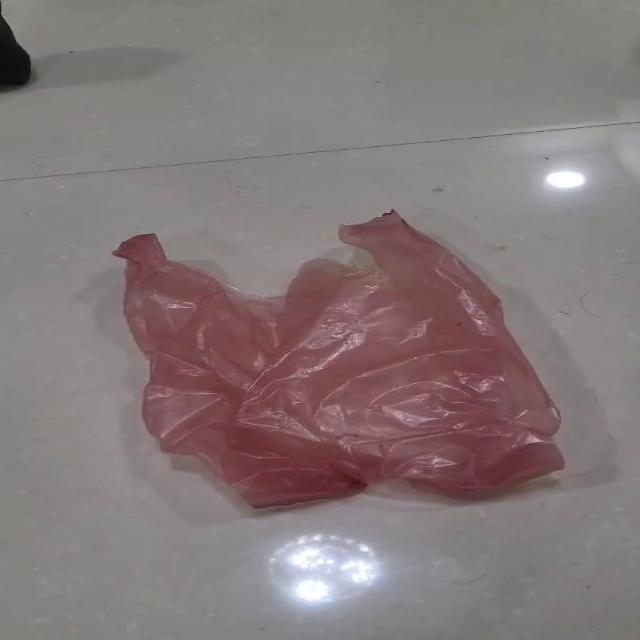plastic: (110, 208, 565, 509)
